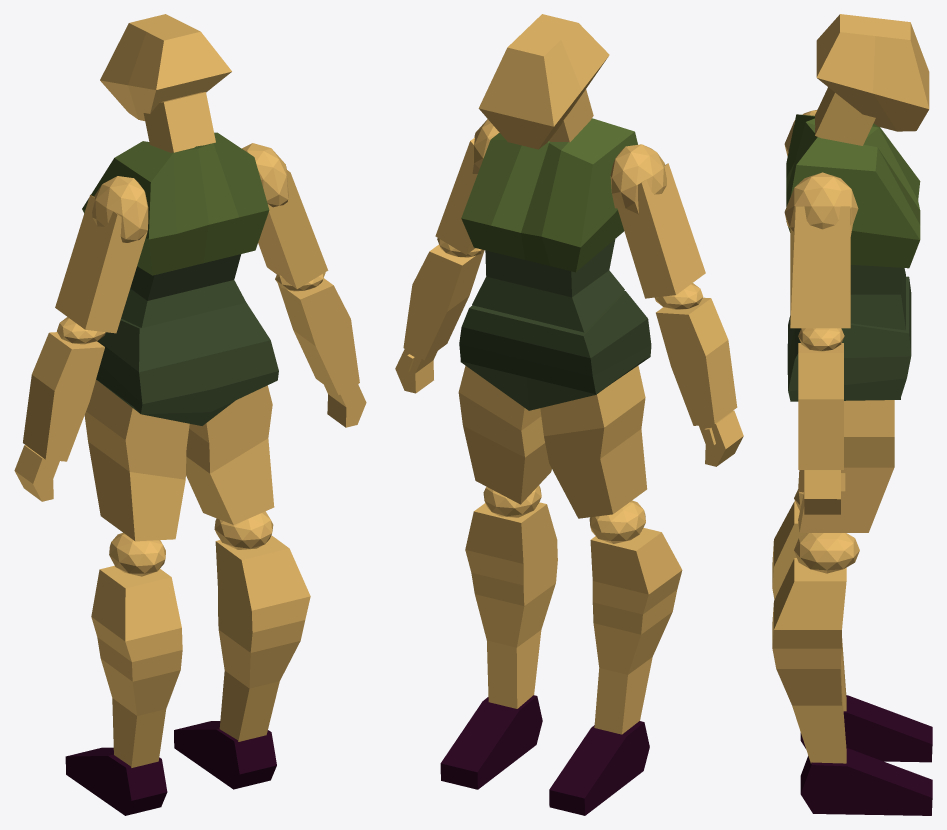
The model's file is charactermodel.fbx.
3 renders of one model, left to right at view 1: azimuth 30°, elevation 25°; view 2: azimuth 150°, elevation 25°; view 3: azimuth 270°, elevation 25°, orthographic.
Visible parts, largest first — view 1: spine, Torso, Leg.001, Leg, Femer, Femer.001, Head, Biceps, Forearm, Forearm.001, Biceps.001, Foot.001 (+8 smaller); view 2: spine, Torso, Leg.001, Leg, Femer, Head, Femer.001, Biceps, Forearm, Foot.001, Foot, Forearm.001 (+8 smaller); view 3: Leg.001, Torso, Head, spine, Biceps.001, Femer.001, Foot.001, Forearm.001, Foot, Shoulder.001, Neck, Icosphere.001 (+2 smaller).
Part boxes in pixels (box(x1,y1,x2,y2)): spine: box(96, 254, 278, 425); Torso: box(82, 132, 269, 275); Leg.001: box(215, 535, 310, 741); Leg: box(91, 565, 182, 767); Femer: box(84, 380, 189, 541); Femer.001: box(186, 385, 274, 524); Head: box(100, 14, 231, 120); Biceps: box(55, 194, 147, 344); Forearm: box(23, 332, 104, 461); Forearm.001: box(278, 278, 359, 395); Biceps.001: box(258, 169, 328, 291); Foot.001: box(174, 721, 276, 789); spine: box(459, 239, 651, 410); Torso: box(461, 118, 637, 272); Leg.001: box(465, 502, 557, 708); Leg: box(590, 527, 682, 734); Femer: box(540, 365, 647, 518); Head: box(478, 14, 609, 149); Femer.001: box(458, 365, 551, 504); Biceps: box(617, 163, 705, 309); Forearm: box(656, 297, 737, 425); Foot.001: box(440, 695, 542, 789); Foot: box(549, 721, 649, 815); Forearm.001: box(403, 244, 484, 360); Leg.001: box(772, 558, 846, 763); Torso: box(786, 114, 920, 268); Head: box(816, 14, 929, 131); spine: box(787, 265, 911, 401); Biceps.001: box(790, 206, 850, 351); Femer.001: box(798, 400, 894, 532); Foot.001: box(800, 748, 932, 815); Forearm.001: box(798, 343, 843, 469); Foot: box(800, 695, 932, 762); Shoulder.001: box(784, 172, 858, 236); Neck: box(815, 87, 875, 145); Icosphere.001: box(794, 533, 859, 573).
Bounding box in the file's own units: 400 × 865 × 166.
